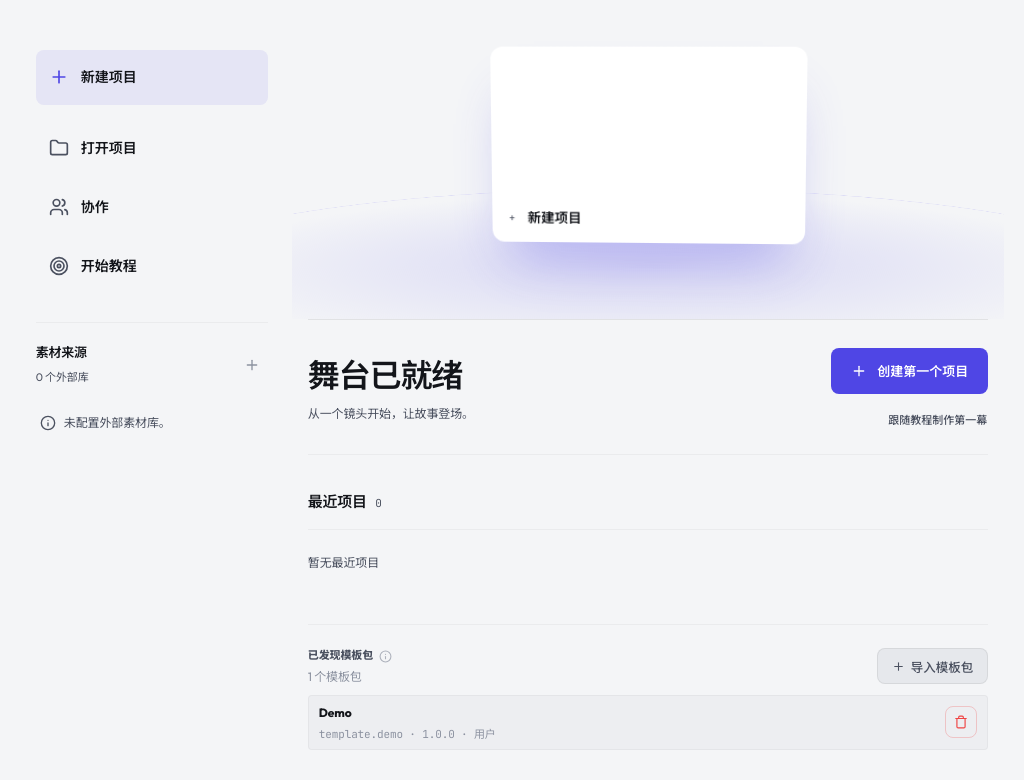
Test: ProjectHome collaboration entry › keeps template deletion failure feedback outside the scrollable list
(page scrolled)
Click the button named "删除模板包 Demo": (961,722) [945,706,977,738]
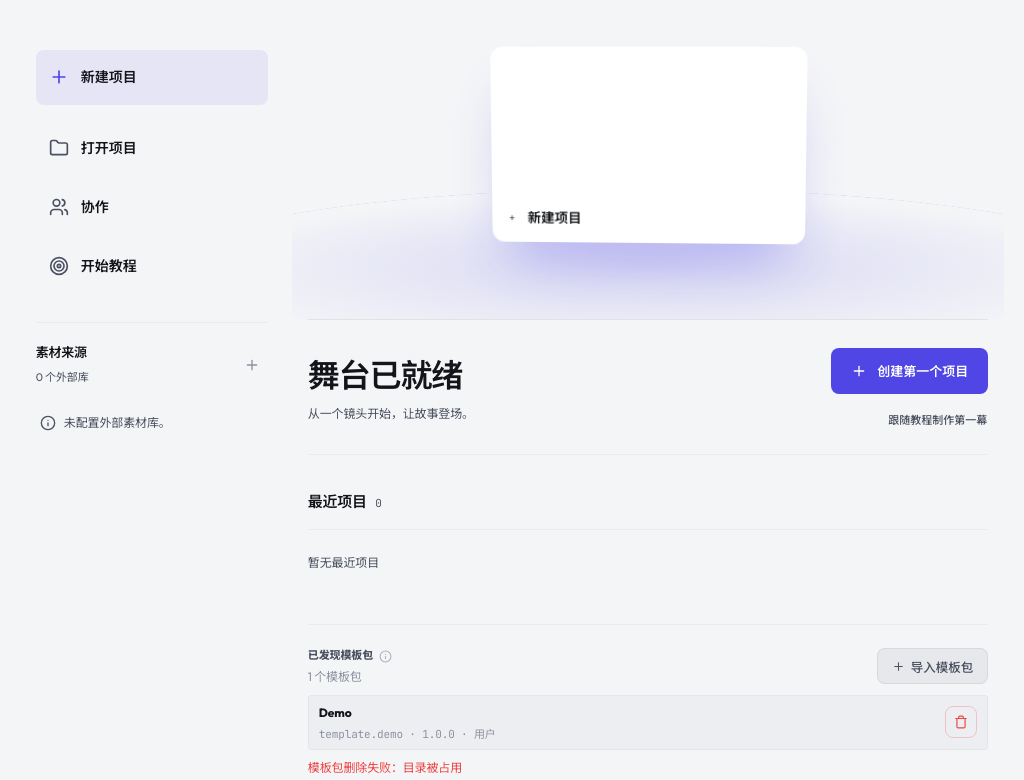
Check: the text titled "Demo" is shown, box [319,705,352,720]
Check: the message "模板包删除失败：目录被占用" is shown, box [308,760,462,775]
